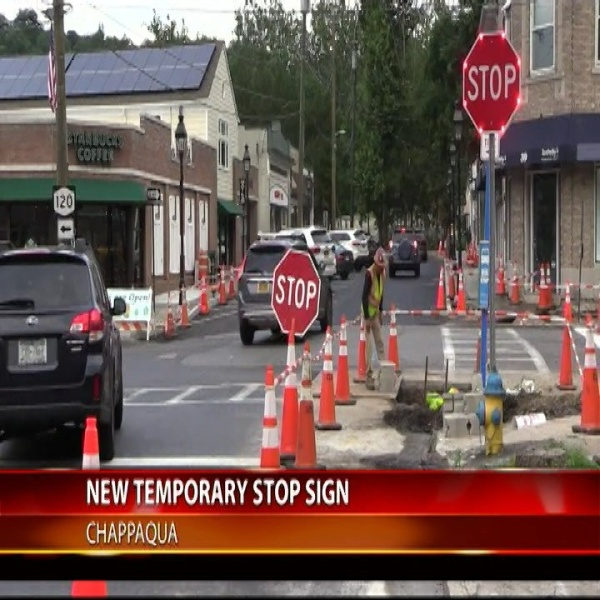stop: (464, 29, 518, 135), (272, 252, 318, 333)
